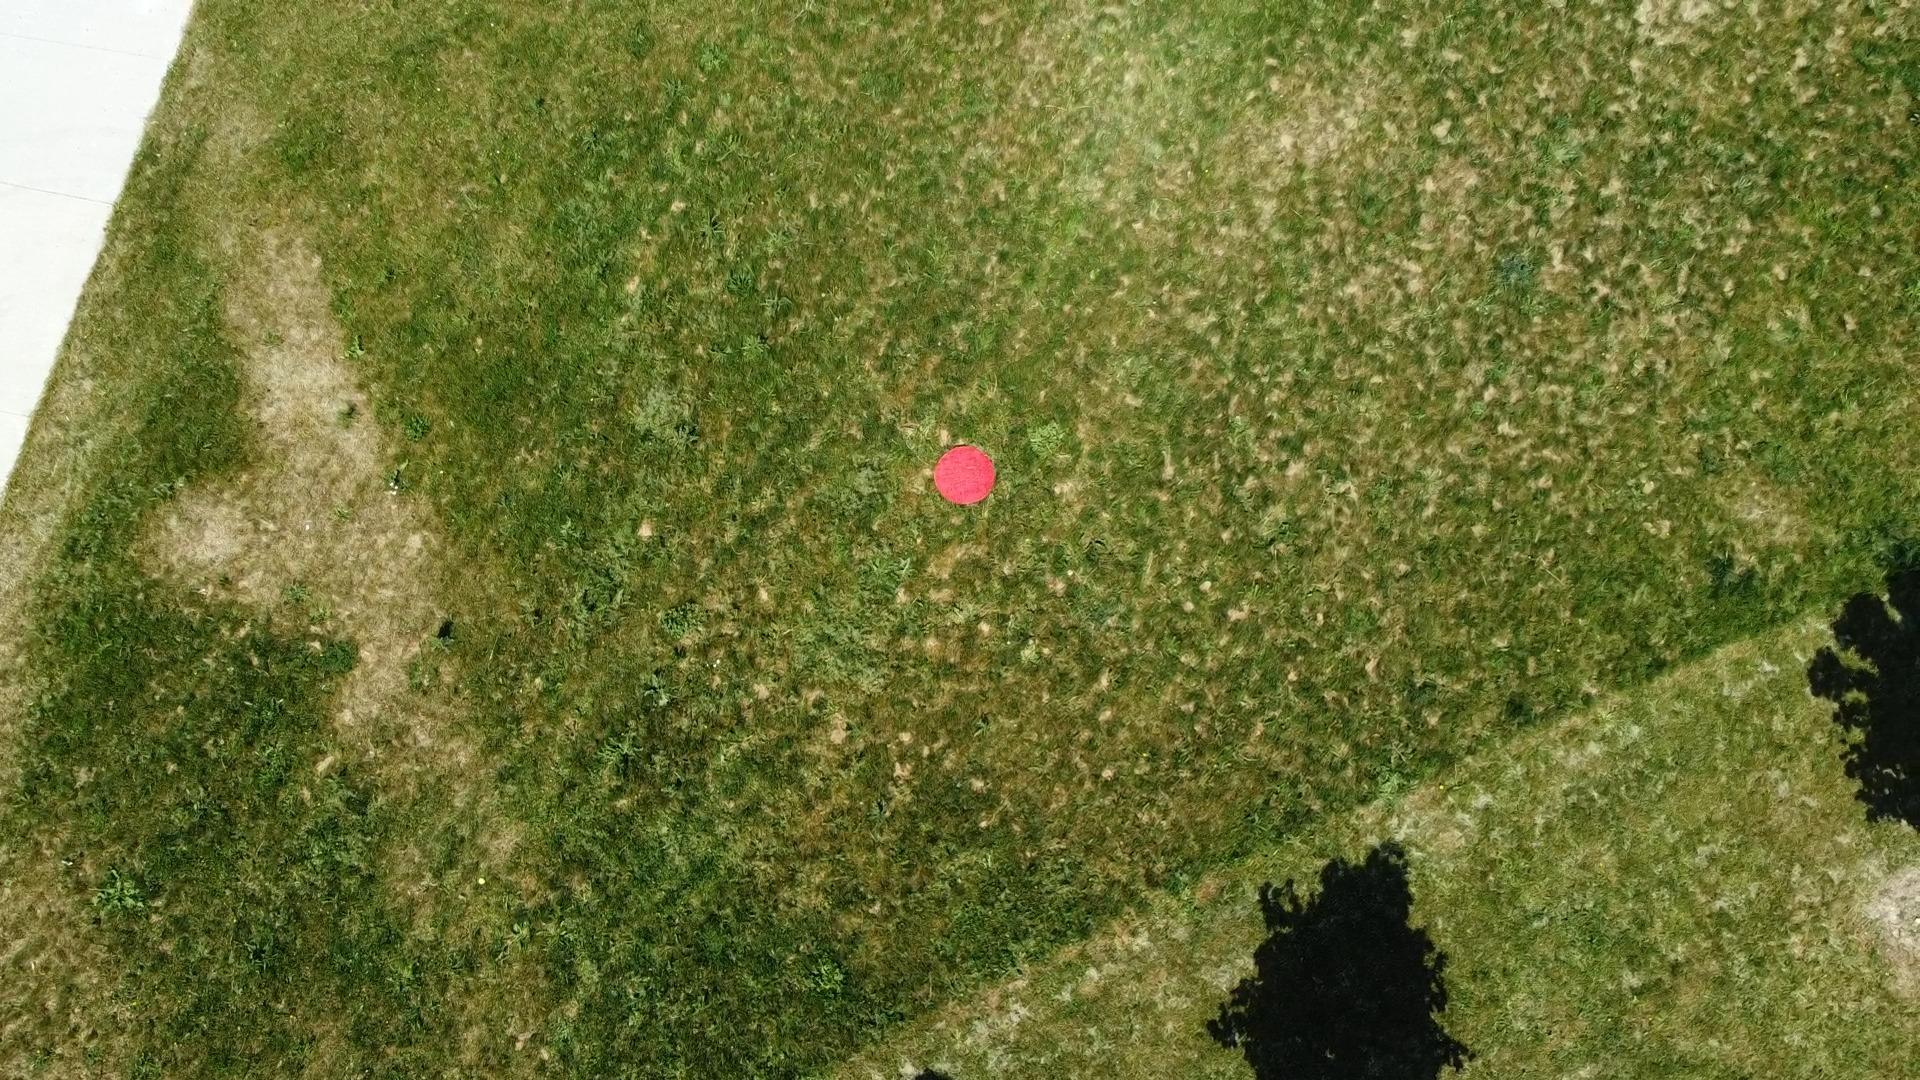Red: (931, 443, 1001, 509)
